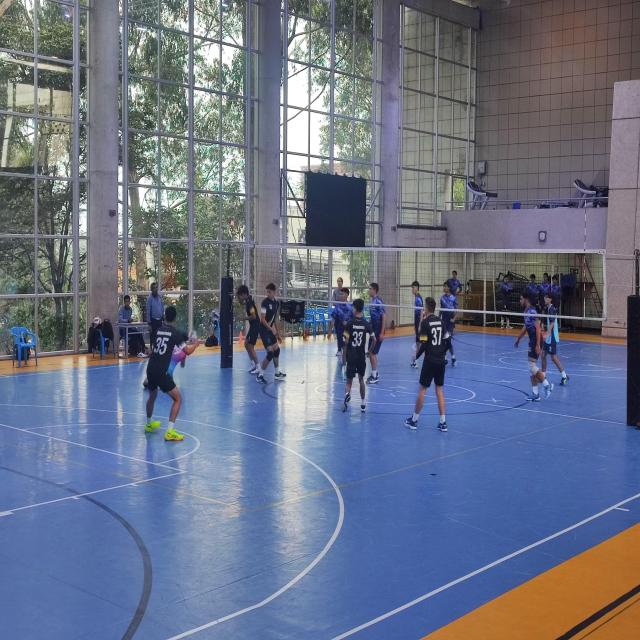volleyball: (188, 330, 198, 344), (93, 316, 102, 326)
